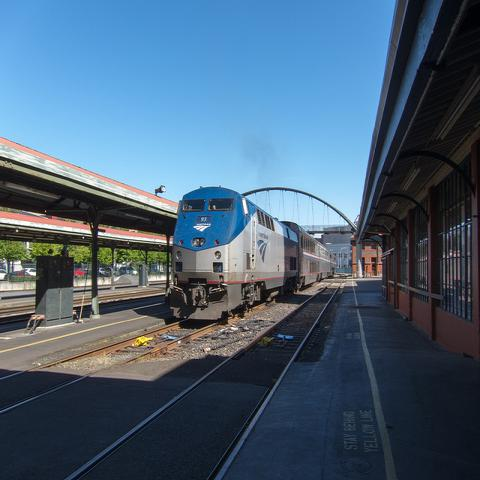car: (25, 267, 37, 276), (0, 268, 8, 281), (75, 268, 84, 277), (99, 267, 104, 274)
